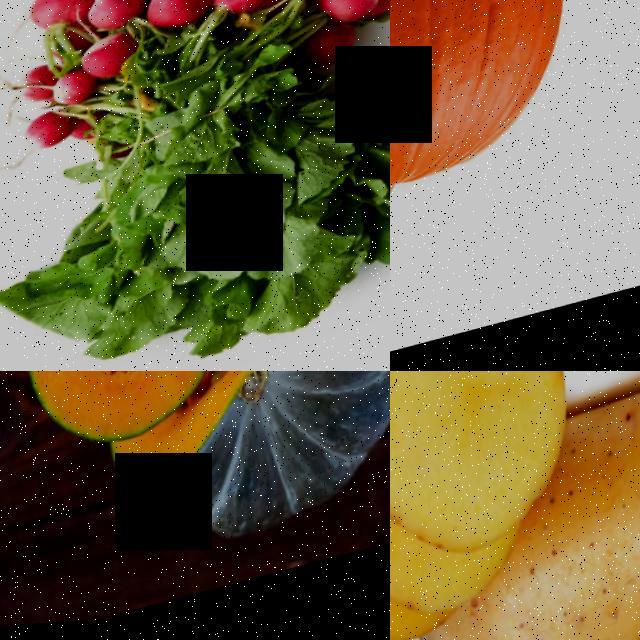potato: (390, 371, 581, 640), (547, 371, 640, 640)
pumpkin: (0, 371, 390, 593), (390, 0, 626, 272)
spinach: (0, 0, 390, 188)
